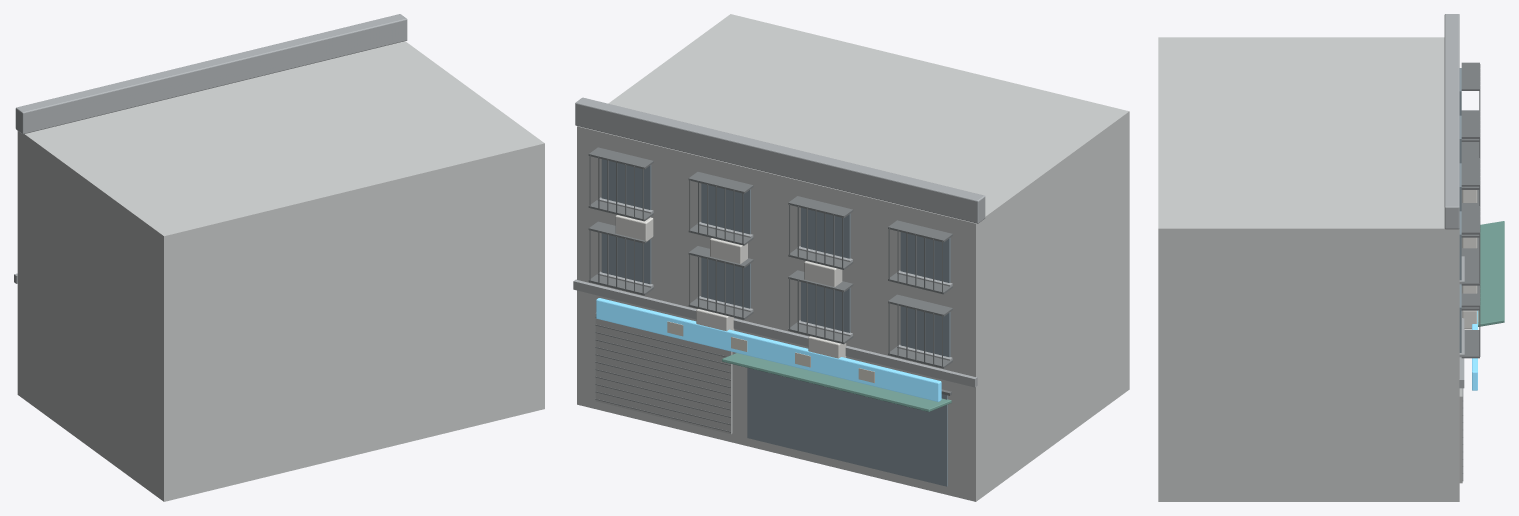
Rendered from shop_b.glb.
3 views of the same model, side by side, from view 1: azimuth 30°, elevation 25°; view 2: azimuth 150°, elevation 25°; view 3: azimuth 270°, elevation 25° (orthographic). The views are drawn at different scales.
Visible parts, largest first — view 1: shop_b; view 2: shop_b; view 3: shop_b.
Boxes of the visible parts, box(x1,y1,x2,y2) form: shop_b: box(14, 14, 544, 501); shop_b: box(573, 14, 1129, 501); shop_b: box(1158, 14, 1504, 501).
Bounding box in the file's own units: 9.1 × 6.5 × 6.9.
